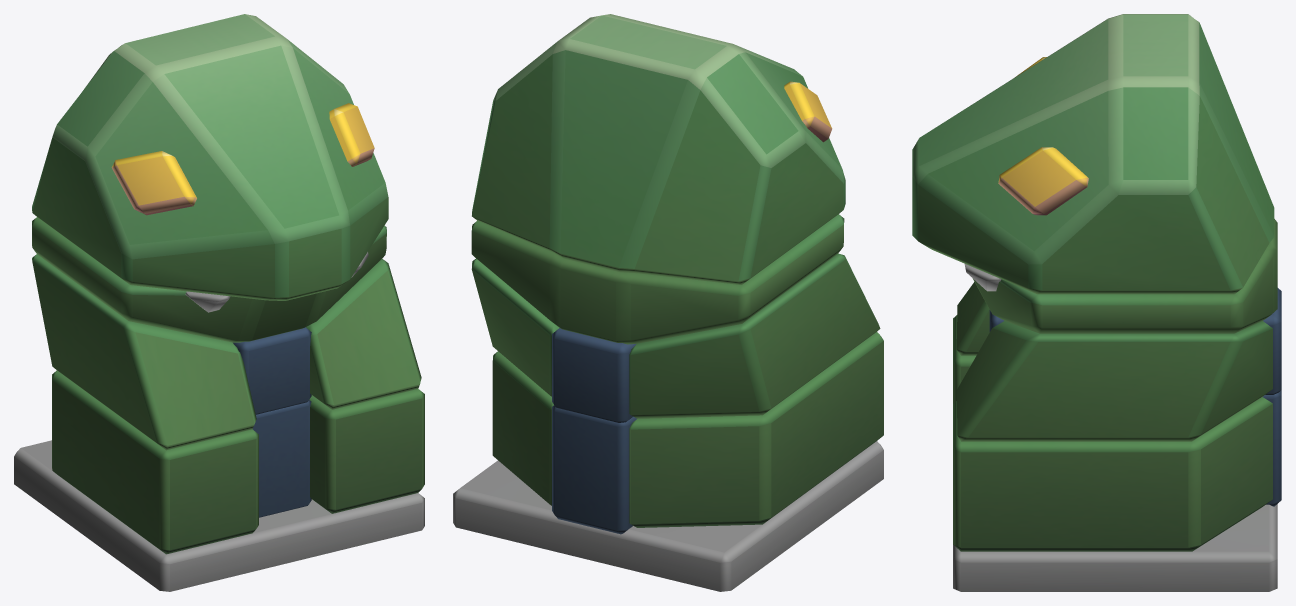
Rendered from statue_snake_green.fbx.
3 views of the same model, side by side, from view 1: azimuth 30°, elevation 25°; view 2: azimuth 150°, elevation 25°; view 3: azimuth 270°, elevation 25° (orthographic). The views are drawn at different scales.
Parts seen in each view (by area): view 1: statue_snake_green; view 2: statue_snake_green; view 3: statue_snake_green.
Part boxes in pixels (box(x1,y1,x2,y2)): statue_snake_green: box(14, 14, 424, 591); statue_snake_green: box(453, 14, 883, 591); statue_snake_green: box(912, 14, 1281, 591).
Size of the model in its own units: 200 by 325 by 227.
